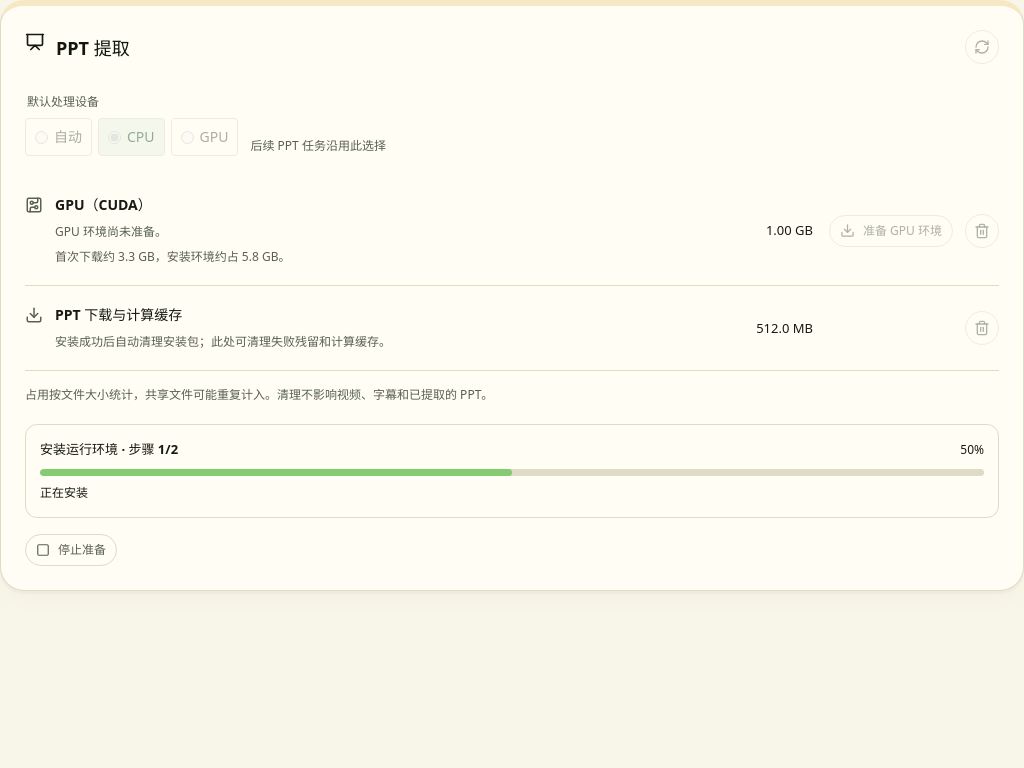
Test case: recovers an installation that was started before the settings were opened
The width and height of the screenshot is (1024, 768).
Expected: the element named "PPT GPU 安装进度" is shown, left=25, top=424, right=999, bottom=518
What coordinates should you click on to do the following:
click the button "停止准备"
I would click on:
 (71, 550)
Its box is left=25, top=534, right=117, bottom=566.
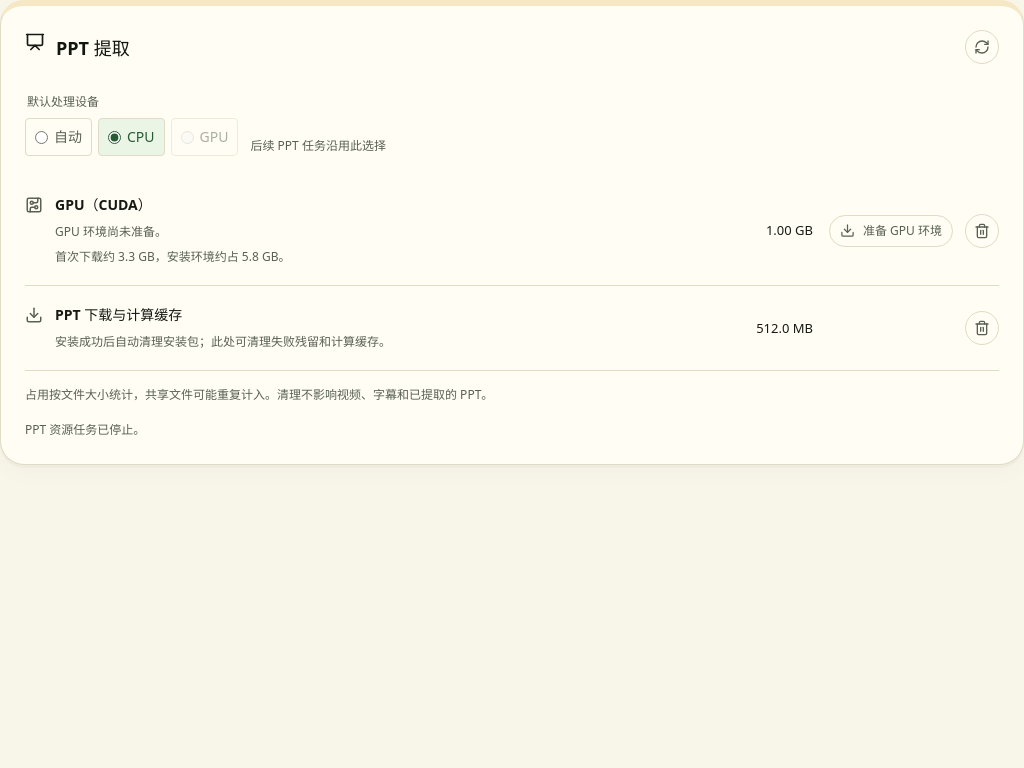
Result: the text "PPT 资源任务已停止" is shown at left=25, top=420, right=145, bottom=438
